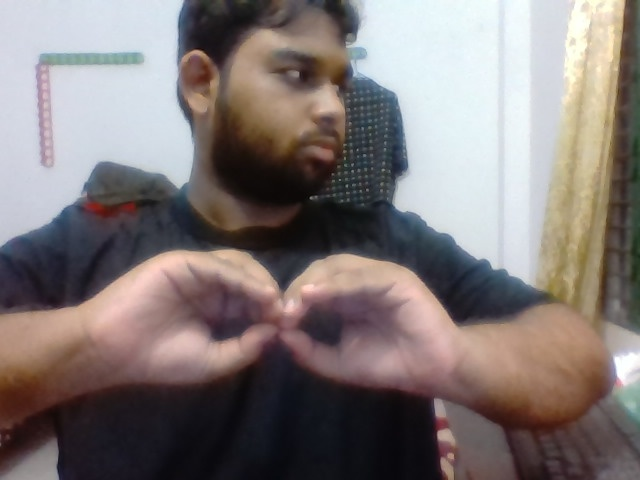B: (96, 240, 462, 413)
